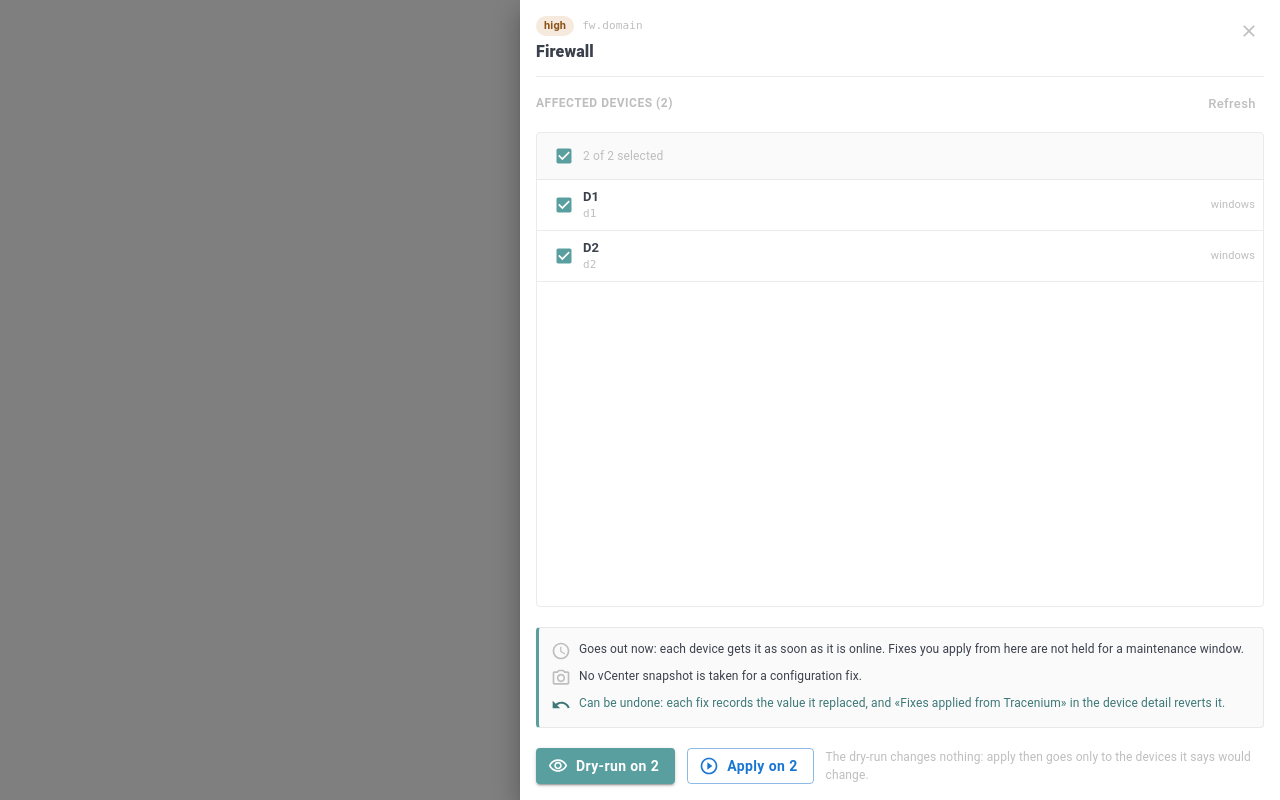
Test: simular, luego aplicar › mientras falte alguien por contestar, Apply no existe
Click the button "Dry-run on 2": [606, 766] box [536,748,675,784]
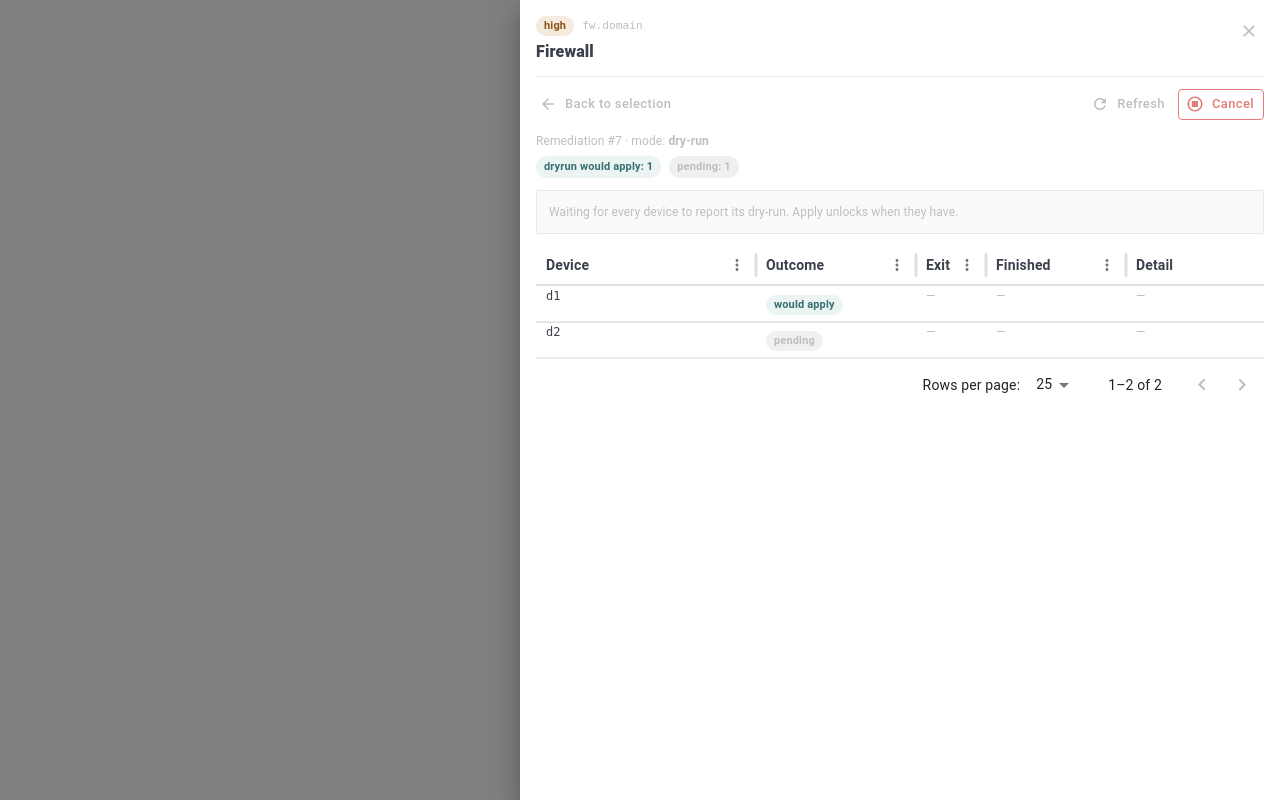
Expected: the text "Waiting for every device" is shown, [549,205,958,219]
